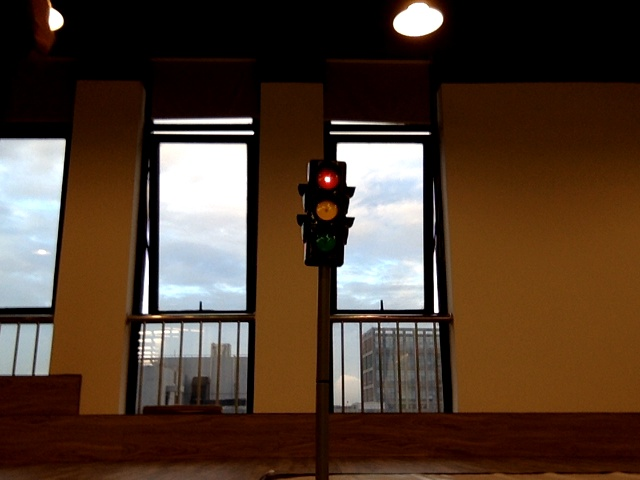red: (306, 162, 341, 258)
